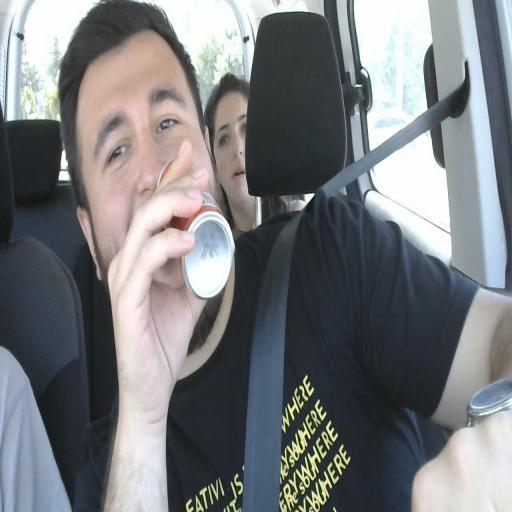Drinking: (71, 32, 227, 363)
